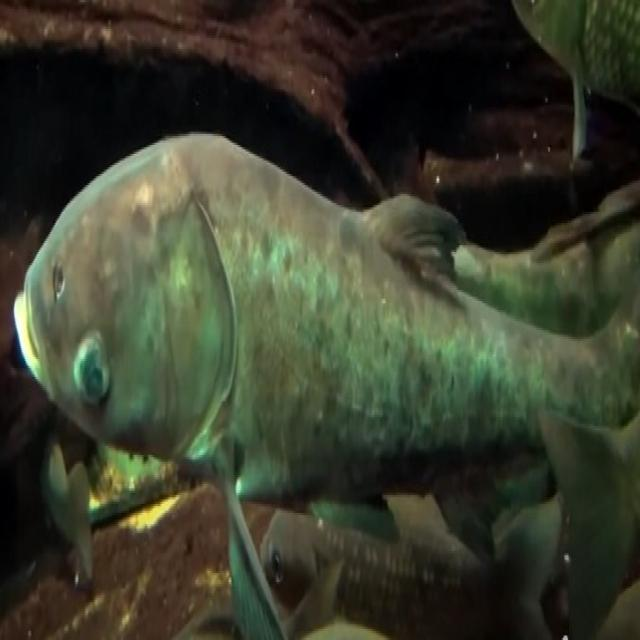Big-Head-Carp: (18, 50, 640, 614)
